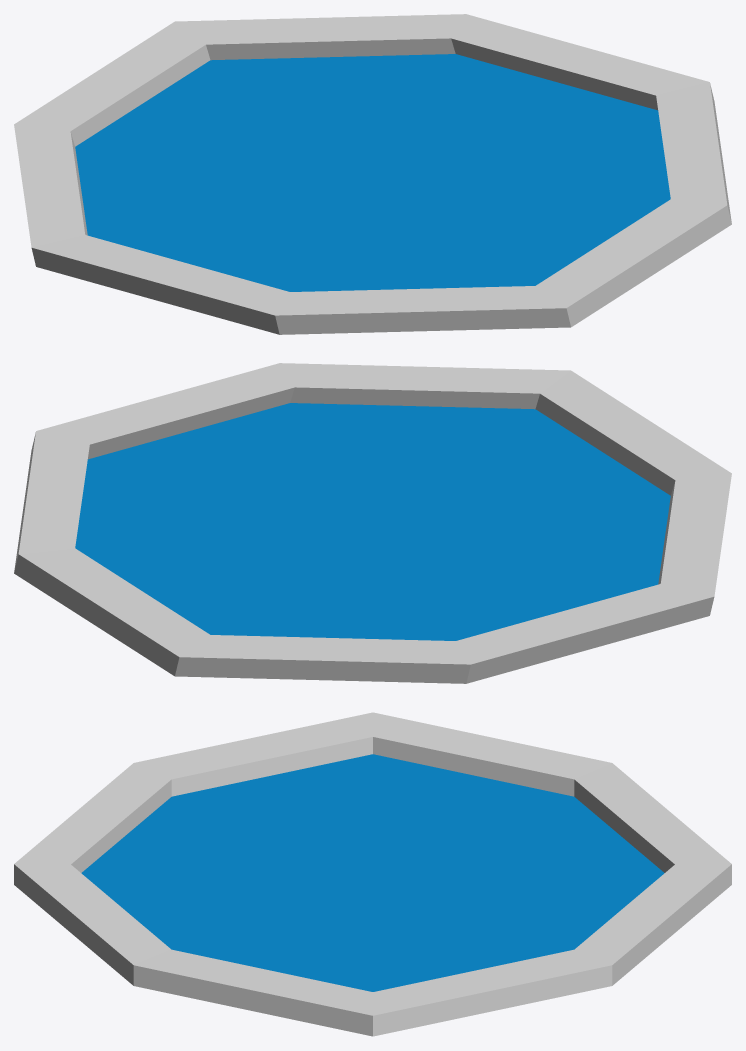
The model's file is piscine2.fbx.
3 renders of one model, top to bottom at view 1: azimuth 30°, elevation 25°; view 2: azimuth 150°, elevation 25°; view 3: azimuth 270°, elevation 25°, orthographic. The views are drawn at different scales.
Visible parts, largest first — view 1: Plane; view 2: Plane; view 3: Plane.
Boxes of the visible parts, x1,y1,x2,y2 form: Plane: (14,14,731,334); Plane: (14,363,731,683); Plane: (14,712,731,1036).
Bounding box in the file's own units: 997 × 28.46 × 990.
